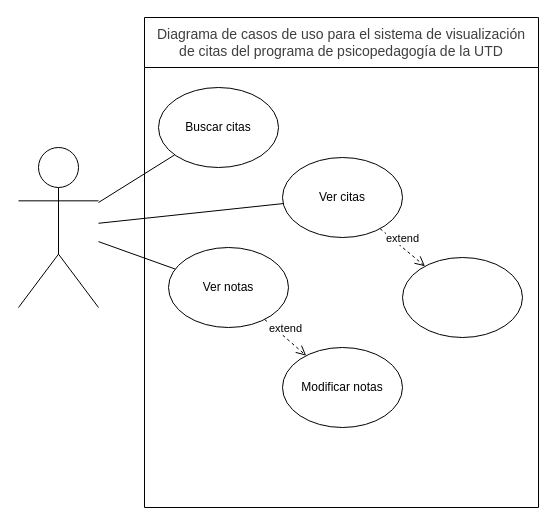
This 556x525 diagram has some shape labels left out. The centre of each missing label's shape, as x and y in pixels:
Modificar citas: (462,297)
Psicopedagogo: (58,227)
